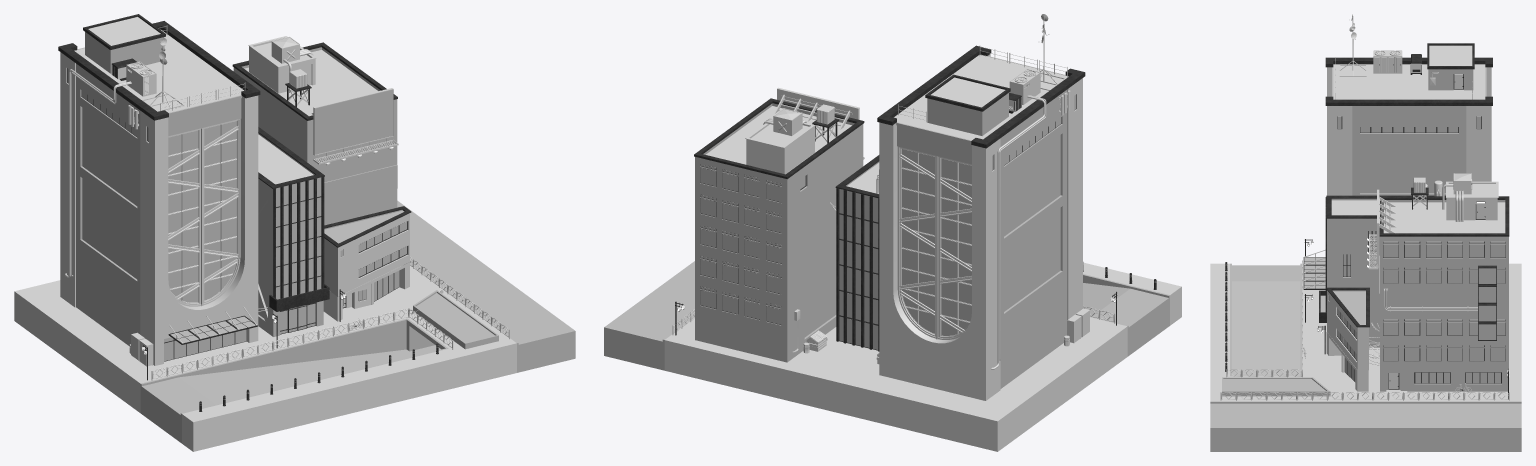
The model's file is KB3D_NTT_BldgSM_G.fbx.
The picture shows the model from 3 angles, left to right: view 1: azimuth 30°, elevation 25°; view 2: azimuth 150°, elevation 25°; view 3: azimuth 270°, elevation 25°; orthographic projection. The views are drawn at different scales.
Parts seen in each view (by area): view 1: KB3D_NTT_BldgSM_G_BuildingA, KB3D_NTT_BldgSM_G_Main, KB3D_NTT_BldgSM_G_BuildingC, KB3D_NTT_BldgSM_G_BuildingB, KB3D_NTT_BldgSM_G_BuildingD, KB3D_NTT_BldgSM_G_BillboardA, KB3D_NTT_BldgSM_G_BuildingE; view 2: KB3D_NTT_BldgSM_G_BuildingA, KB3D_NTT_BldgSM_G_Main, KB3D_NTT_BldgSM_G_BuildingC, KB3D_NTT_BldgSM_G_BuildingB, KB3D_NTT_BldgSM_G_BuildingE, KB3D_NTT_BldgSM_G_BillboardA; view 3: KB3D_NTT_BldgSM_G_Main, KB3D_NTT_BldgSM_G_BuildingC, KB3D_NTT_BldgSM_G_BuildingA, KB3D_NTT_BldgSM_G_BuildingB, KB3D_NTT_BldgSM_G_BuildingD, KB3D_NTT_BldgSM_G_BuildingE, KB3D_NTT_BldgSM_G_BillboardA, KB3D_NTT_BldgSM_G_Antenna.
Boxes of the visible parts, x1,y1,x2,y2 form: KB3D_NTT_BldgSM_G_BuildingA: (58,14,260,366); KB3D_NTT_BldgSM_G_Main: (14,200,575,451); KB3D_NTT_BldgSM_G_BuildingC: (232,42,397,225); KB3D_NTT_BldgSM_G_BuildingB: (258,127,329,336); KB3D_NTT_BldgSM_G_BuildingD: (323,206,411,321); KB3D_NTT_BldgSM_G_BillboardA: (311,88,398,165); KB3D_NTT_BldgSM_G_BuildingE: (248,36,316,93); KB3D_NTT_BldgSM_G_BuildingA: (876,45,1089,400); KB3D_NTT_BldgSM_G_Main: (604,261,1181,451); KB3D_NTT_BldgSM_G_BuildingC: (694,98,864,362); KB3D_NTT_BldgSM_G_BuildingB: (835,155,879,351); KB3D_NTT_BldgSM_G_BuildingE: (745,108,814,174); KB3D_NTT_BldgSM_G_BillboardA: (774,87,864,159); KB3D_NTT_BldgSM_G_Main: (1210,239,1521,451); KB3D_NTT_BldgSM_G_BuildingC: (1379,177,1509,392); KB3D_NTT_BldgSM_G_BuildingA: (1303,43,1492,289); KB3D_NTT_BldgSM_G_BuildingB: (1319,180,1445,347); KB3D_NTT_BldgSM_G_BuildingD: (1316,287,1369,391); KB3D_NTT_BldgSM_G_BuildingE: (1442,173,1498,221); KB3D_NTT_BldgSM_G_BillboardA: (1366,189,1396,269); KB3D_NTT_BldgSM_G_Antenna: (1339,14,1366,76).
Size of the model in its own units: 4037 by 3445 by 3271.
